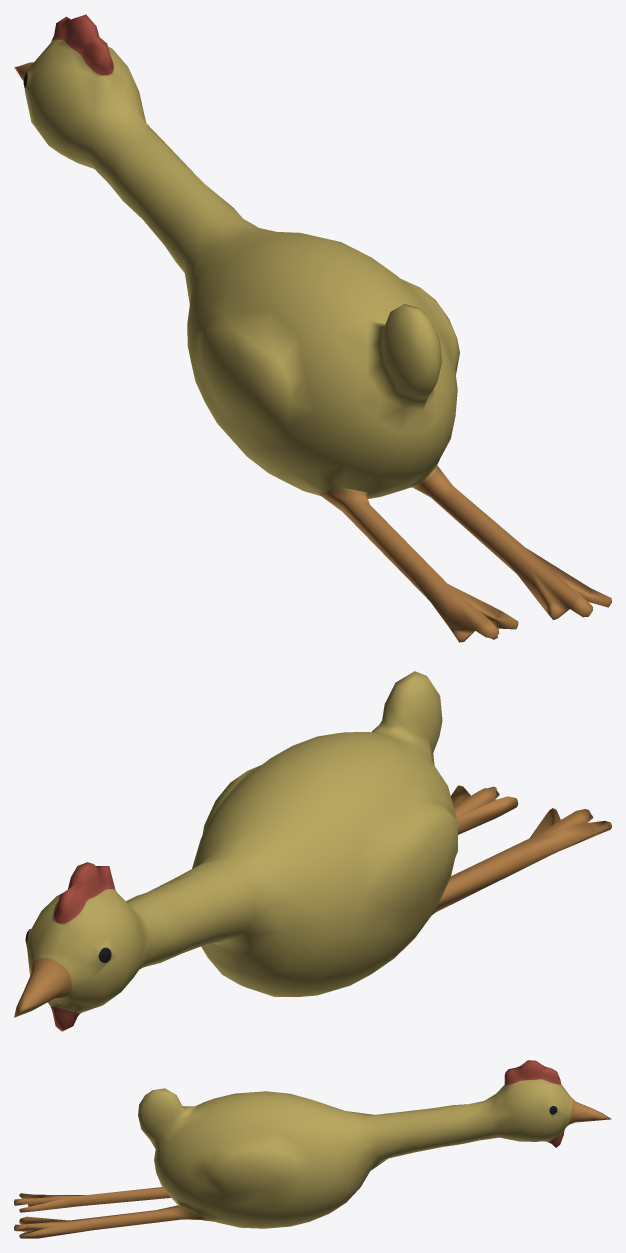
File: w_pj_chicken.glb
3 renders of one model, top to bottom at view 1: azimuth 30°, elevation 25°; view 2: azimuth 150°, elevation 25°; view 3: azimuth 270°, elevation 25°, orthographic. The views are drawn at different scales.
Parts seen in each view (by area): view 1: body_wzA, leg_wzN, comb_wzB; view 2: body_wzA, leg_wzN, comb_wzB, beak_wzN; view 3: body_wzA, leg_wzN, comb_wzB, beak_wzN.
Boxes of the visible parts, <box> form: body_wzA: <box>24,39,459,498</box>; leg_wzN: <box>320,466,611,642</box>; comb_wzB: <box>52,14,113,75</box>; body_wzA: <box>26,671,458,1014</box>; leg_wzN: <box>432,785,611,914</box>; comb_wzB: <box>50,862,114,1031</box>; beak_wzN: <box>14,958,71,1017</box>; body_wzA: <box>138,1079,572,1228</box>; leg_wzN: <box>14,1187,206,1238</box>; comb_wzB: <box>504,1060,564,1147</box>; beak_wzN: <box>569,1099,611,1124</box>.
Bounding box in the file's own units: 0.1134 × 0.1483 × 0.4964.
